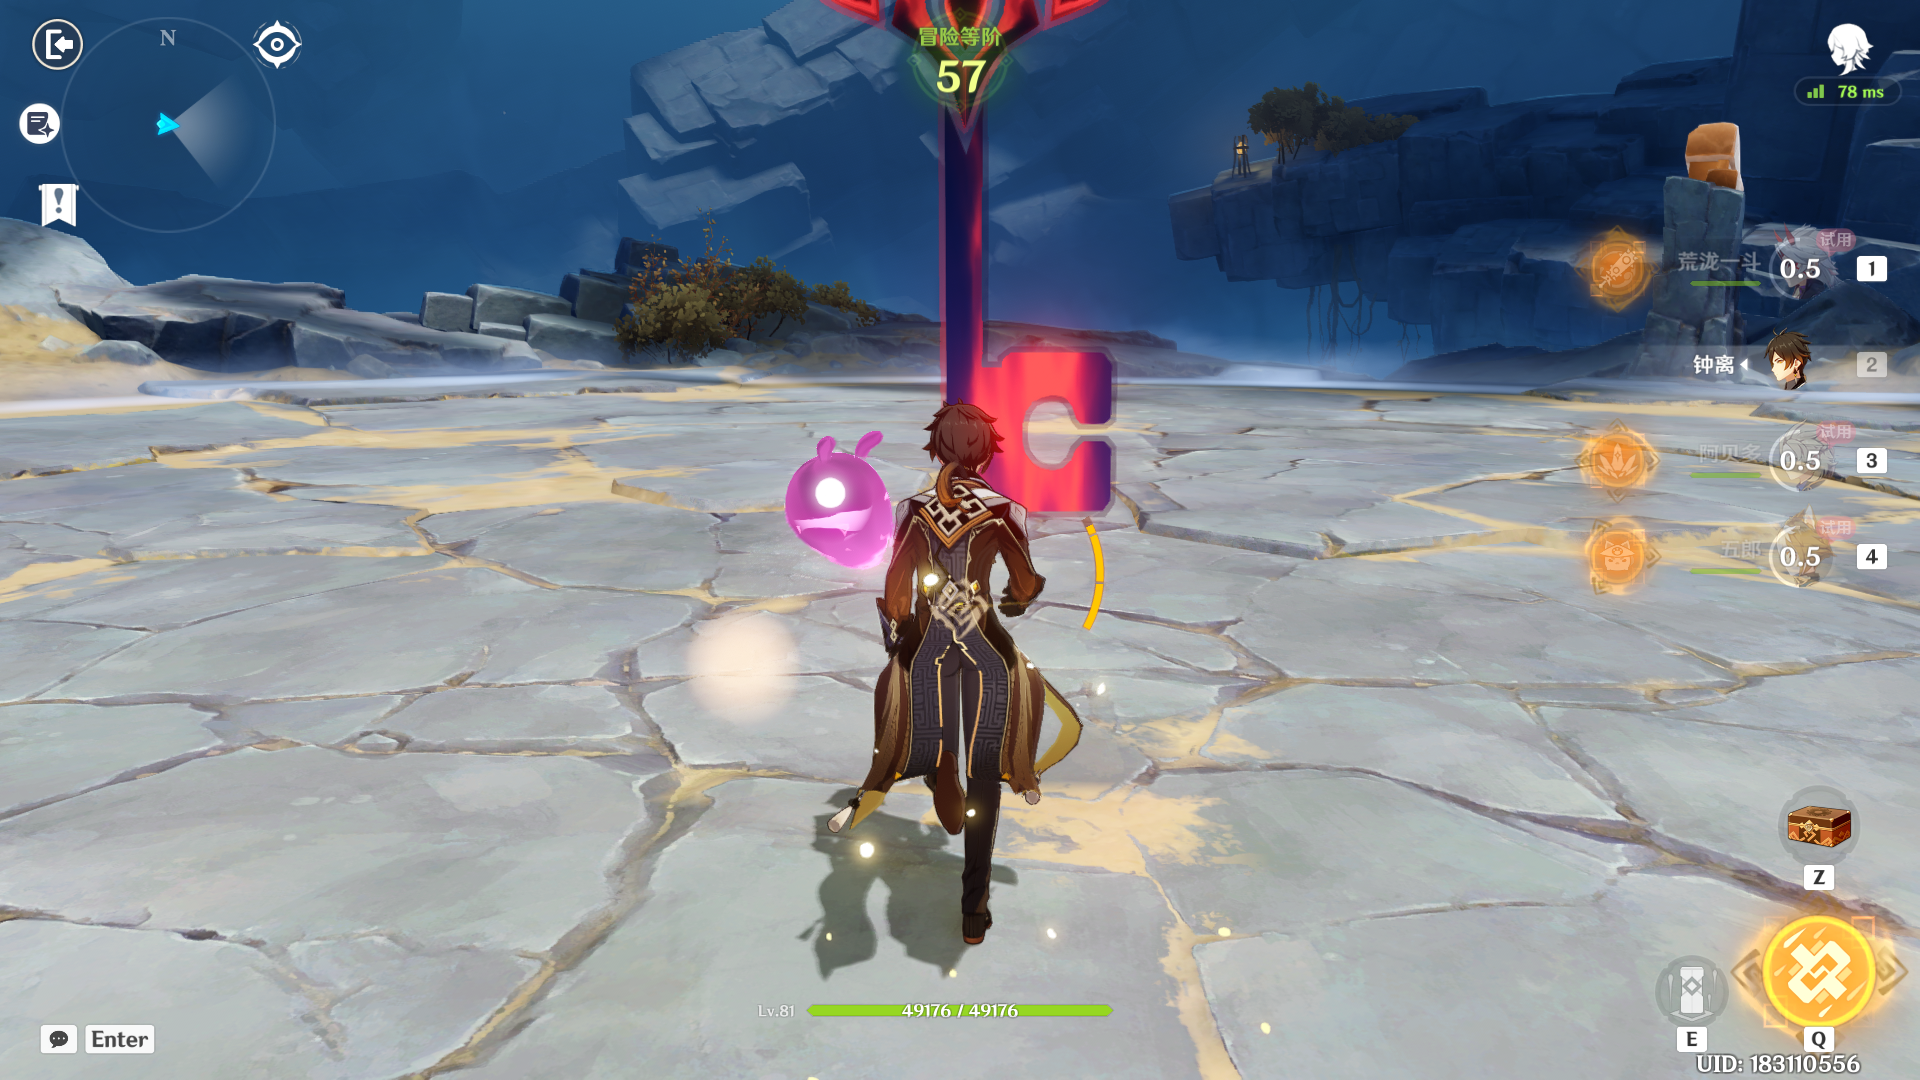character: (771, 375, 1124, 948)
